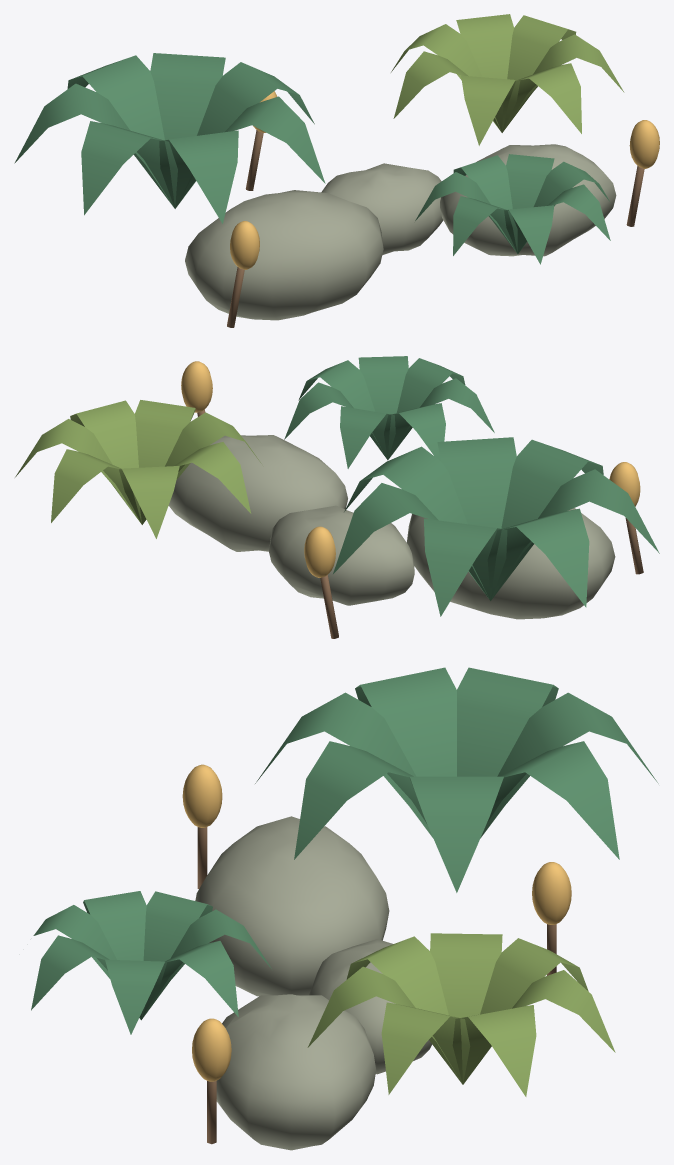
The model's file is AH03_GroveDetail.fbx.
3 views of the same model, one above another, from view 1: azimuth 30°, elevation 25°; view 2: azimuth 150°, elevation 25°; view 3: azimuth 270°, elevation 25° (orthographic). The views are drawn at different scales.
Parts seen in each view (by area): view 1: AH03_GroveDetail_AH03_Leaf, AH03_GroveDetail_AH03_Stone, AH03_GroveDetail_AH03_LeafWarm, AH03_GroveDetail_AH03_Gold, AH03_GroveDetail_AH03_Bark; view 2: AH03_GroveDetail_AH03_Leaf, AH03_GroveDetail_AH03_Stone, AH03_GroveDetail_AH03_LeafWarm, AH03_GroveDetail_AH03_Gold, AH03_GroveDetail_AH03_Bark; view 3: AH03_GroveDetail_AH03_Leaf, AH03_GroveDetail_AH03_Stone, AH03_GroveDetail_AH03_LeafWarm, AH03_GroveDetail_AH03_Gold, AH03_GroveDetail_AH03_Bark.
Part boxes in pixels (box(x1,y1,x2,y2)): AH03_GroveDetail_AH03_Leaf: box(14, 53, 610, 264); AH03_GroveDetail_AH03_Stone: box(185, 144, 616, 320); AH03_GroveDetail_AH03_LeafWarm: box(391, 14, 624, 145); AH03_GroveDetail_AH03_Gold: box(230, 91, 659, 269); AH03_GroveDetail_AH03_Bark: box(227, 130, 644, 327); AH03_GroveDetail_AH03_Leaf: box(284, 356, 659, 616); AH03_GroveDetail_AH03_Stone: box(168, 435, 615, 619); AH03_GroveDetail_AH03_LeafWarm: box(15, 400, 261, 538); AH03_GroveDetail_AH03_Gold: box(181, 361, 640, 577); AH03_GroveDetail_AH03_Bark: box(197, 409, 643, 638); AH03_GroveDetail_AH03_Leaf: box(31, 667, 658, 1034); AH03_GroveDetail_AH03_Stone: box(195, 816, 431, 1150); AH03_GroveDetail_AH03_LeafWarm: box(307, 933, 615, 1096); AH03_GroveDetail_AH03_Gold: box(182, 764, 571, 1081); AH03_GroveDetail_AH03_Bark: box(197, 827, 556, 1144).
Size of the model in its own units: 269 by 82.24 by 211.
